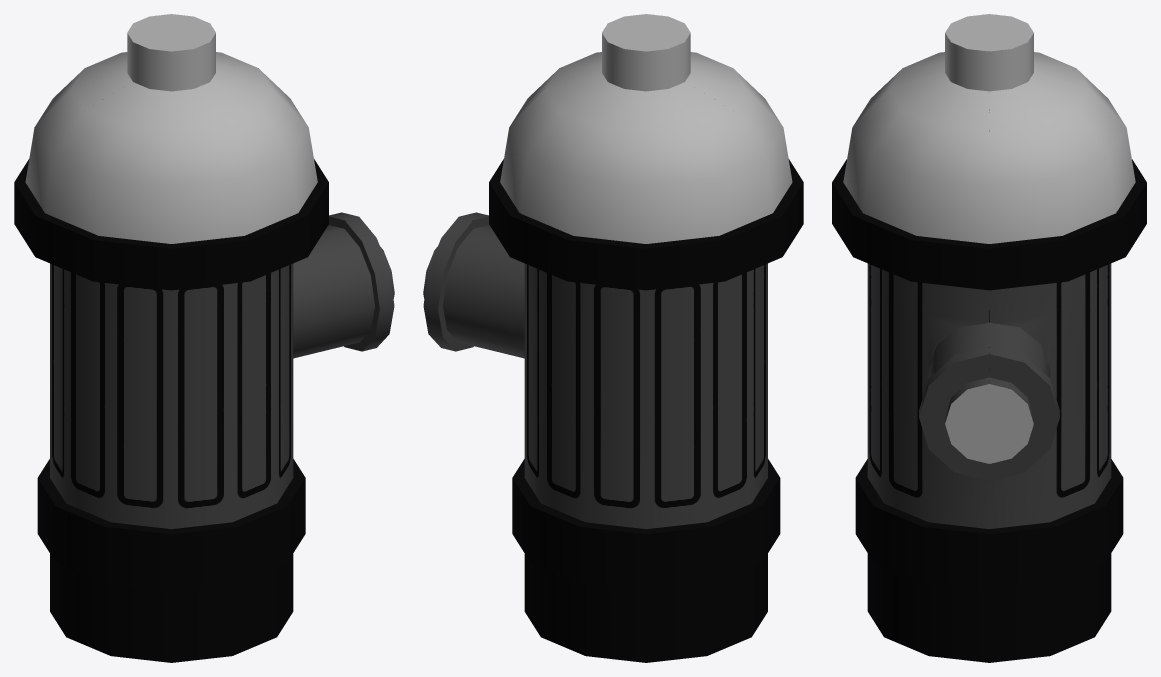
The model's file is Hydrant.fbx.
The picture shows the model from 3 angles, left to right: view 1: azimuth 30°, elevation 25°; view 2: azimuth 150°, elevation 25°; view 3: azimuth 270°, elevation 25°; orthographic projection.
Visible parts, largest first — view 1: Fire Hydrant; view 2: Fire Hydrant; view 3: Fire Hydrant.
Part boxes in pixels (left/top/right/bottom): Fire Hydrant: left=14, top=14, right=394, bottom=662; Fire Hydrant: left=423, top=14, right=803, bottom=662; Fire Hydrant: left=832, top=14, right=1146, bottom=662.
Bounding box in the file's own units: 125 × 205 × 101.
